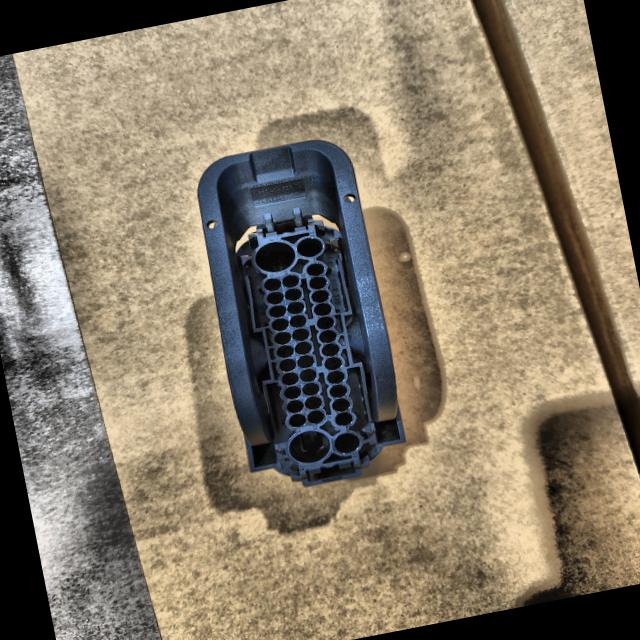P38: (198, 141, 406, 486)
